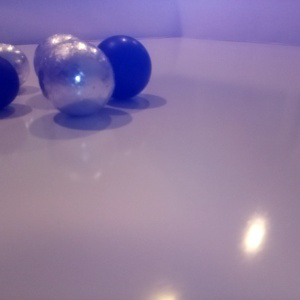alive_ball: (39, 39, 114, 117), (33, 33, 87, 88), (1, 42, 30, 90)
dead_ball: (93, 35, 153, 101), (1, 57, 20, 111)
